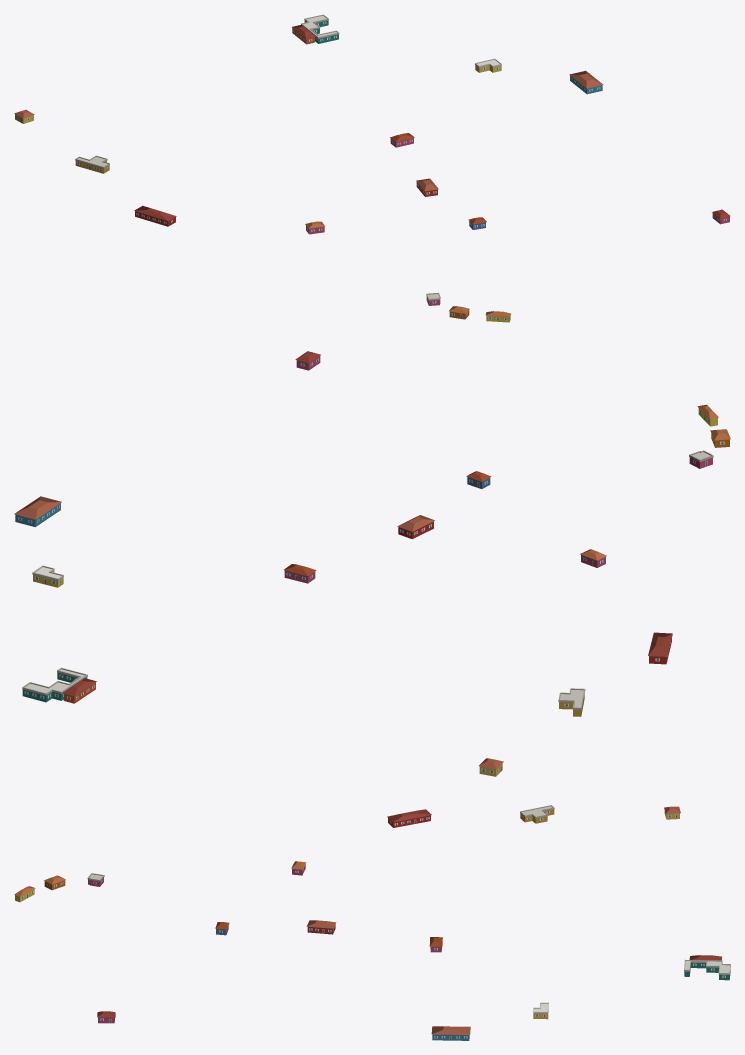
The model's file is msb_oranjestad_m17_1.glb.
3 views of the same model, one above another, from view 1: azimuth 30°, elevation 25°; view 2: azimuth 150°, elevation 25°; view 3: azimuth 270°, elevation 25° (orthographic). The views are drawn at different scales.
Visible parts, largest first — view 1: msb_oranjestad_m17_1_lod0; view 2: msb_oranjestad_m17_1_lod0; view 3: msb_oranjestad_m17_1_lod0.
Boxes of the visible parts, box(x1,y1,x2,y2) form: msb_oranjestad_m17_1_lod0: box(14, 14, 730, 322); msb_oranjestad_m17_1_lod0: box(14, 351, 730, 776); msb_oranjestad_m17_1_lod0: box(14, 805, 730, 1040).
Size of what is drawn, in the model's own units: 287 by 10.06 by 371.
Materials: 3 (1 with a texture image).
